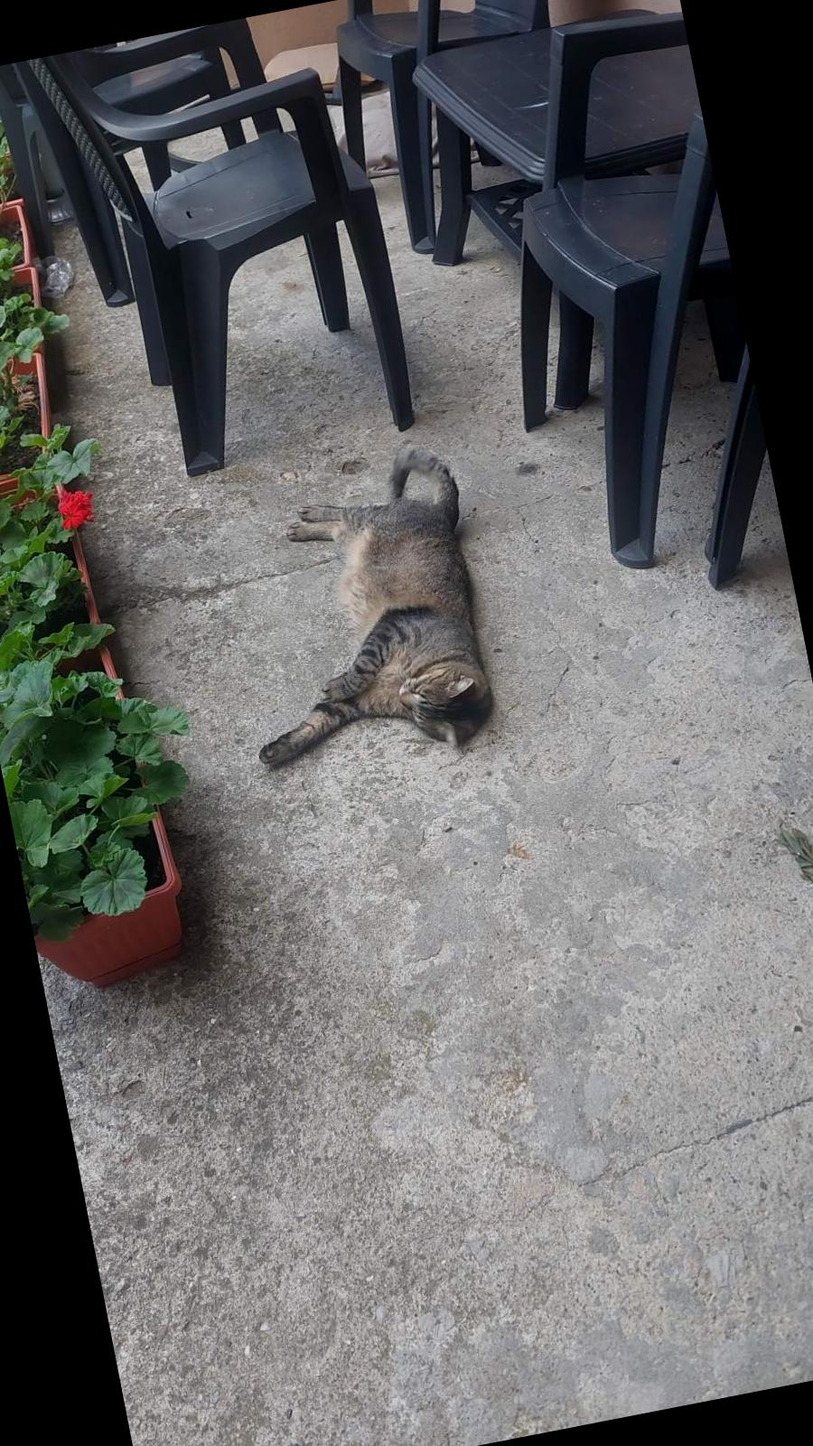macka: (204, 437, 509, 786)
